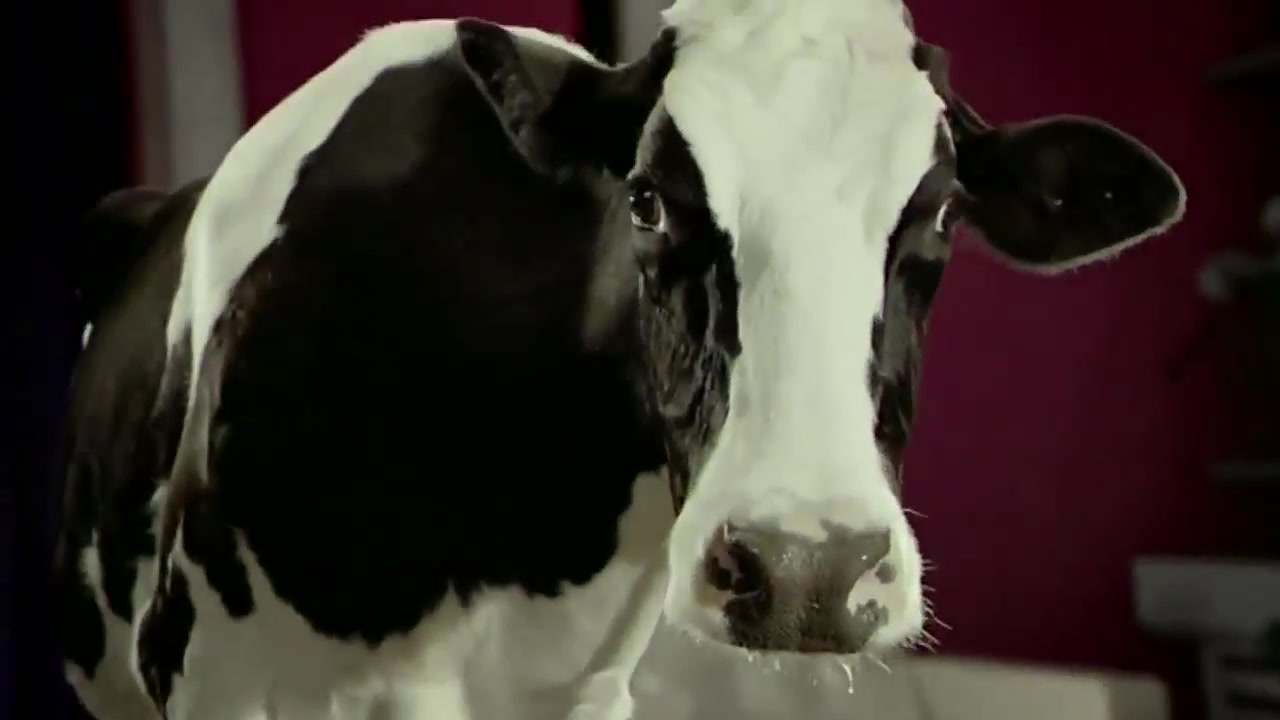cow: (1, 2, 1197, 720)
